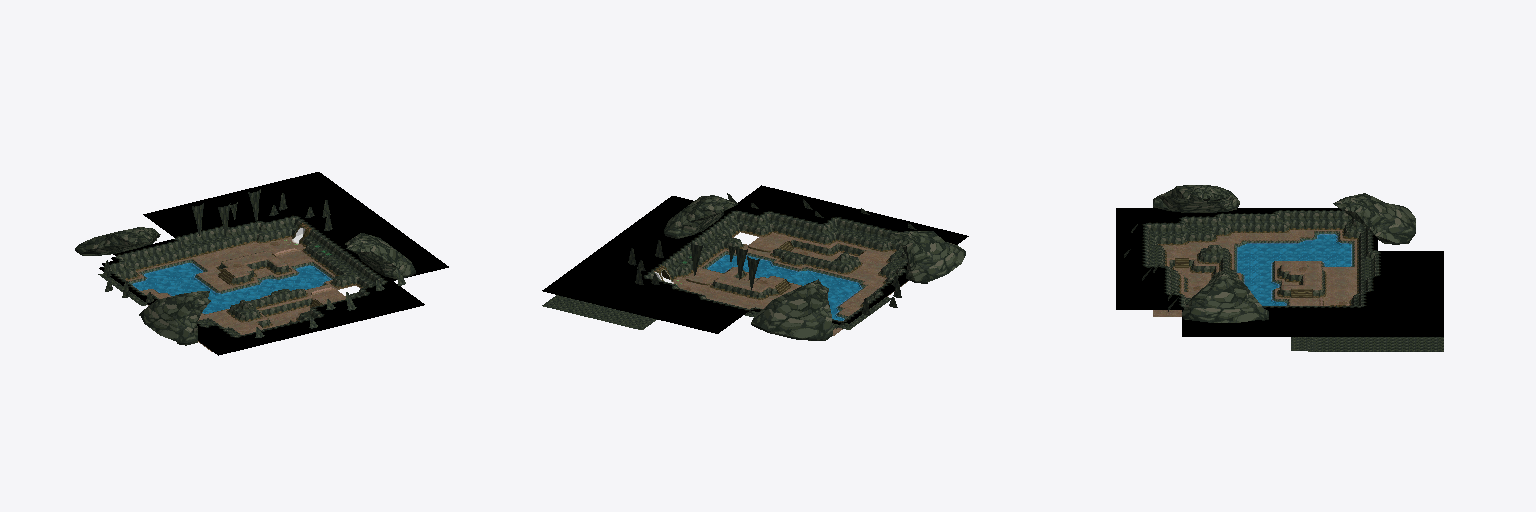
3 views of the same model, side by side, from view 1: azimuth 30°, elevation 25°; view 2: azimuth 150°, elevation 25°; view 3: azimuth 270°, elevation 25° (orthographic).
Visible parts, largest first — view 1: polygon17, polygon18, polygon11, polygon5, polygon6, polygon0, polygon9, polygon10, polygon13, polygon16; view 2: polygon17, polygon18, polygon11, polygon5, polygon0, polygon6, polygon9, polygon10, polygon13; view 3: polygon17, polygon18, polygon11, polygon5, polygon6, polygon0, polygon9, polygon10, polygon13.
Part boxes in pixels (bbox=[...]): polygon17: bbox=[99, 172, 448, 355]; polygon18: bbox=[75, 227, 415, 345]; polygon11: bbox=[110, 219, 381, 325]; polygon5: bbox=[128, 237, 360, 351]; polygon6: bbox=[133, 263, 329, 313]; polygon0: bbox=[98, 189, 405, 337]; polygon9: bbox=[109, 216, 386, 336]; polygon10: bbox=[124, 231, 363, 327]; polygon13: bbox=[128, 251, 334, 323]; polygon16: bbox=[129, 259, 333, 293]; polygon17: bbox=[542, 185, 968, 333]; polygon18: bbox=[664, 195, 965, 340]; polygon11: bbox=[648, 213, 907, 327]; polygon5: bbox=[673, 232, 909, 335]; polygon0: bbox=[542, 193, 916, 329]; polygon6: bbox=[708, 255, 860, 320]; polygon9: bbox=[645, 211, 907, 321]; polygon10: bbox=[670, 229, 897, 328]; polygon13: bbox=[700, 238, 868, 315]; polygon17: bbox=[1116, 208, 1443, 336]; polygon18: bbox=[1153, 185, 1415, 322]; polygon11: bbox=[1148, 213, 1374, 305]; polygon5: bbox=[1153, 230, 1356, 316]; polygon6: bbox=[1238, 235, 1350, 305]; polygon0: bbox=[1124, 221, 1443, 351]; polygon9: bbox=[1146, 211, 1377, 306]; polygon10: bbox=[1157, 228, 1358, 305]; polygon13: bbox=[1167, 231, 1355, 305].
Bounding box in the file's own units: 11.5 × 2.31 × 11.25.
Materials: 21 (21 with a texture image).